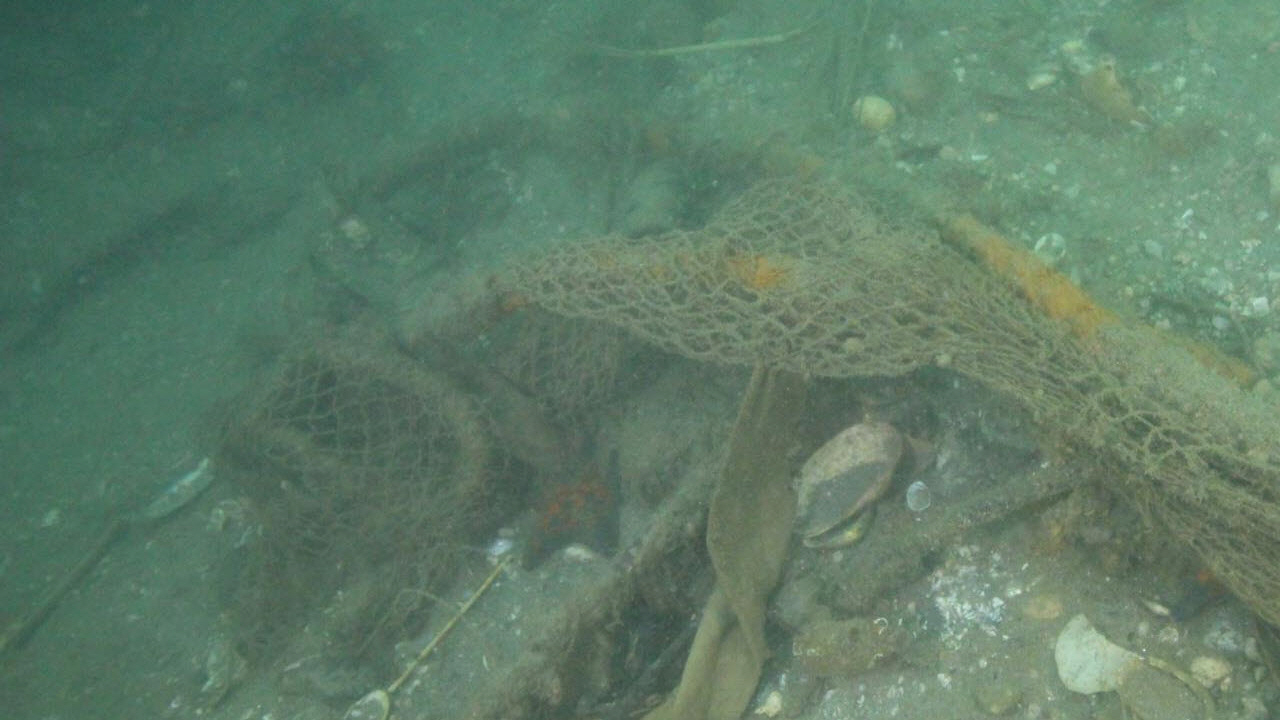fish net: (257, 173, 1280, 636)
